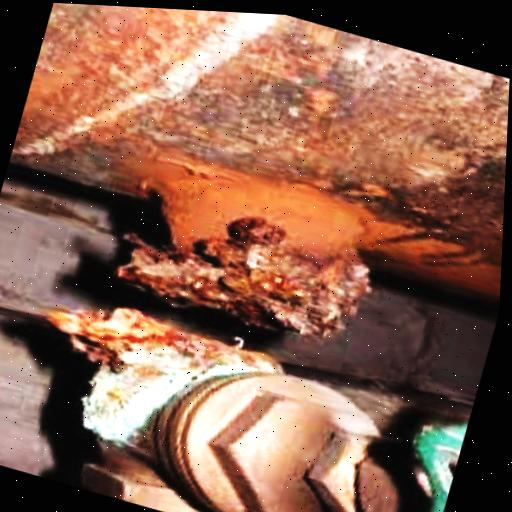corrosion: (5, 1, 512, 297), (113, 156, 403, 366)
